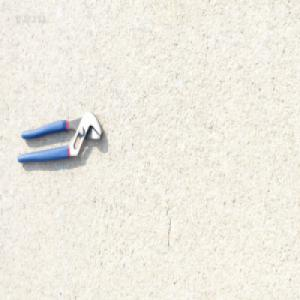Pliers: (15, 109, 103, 163)
